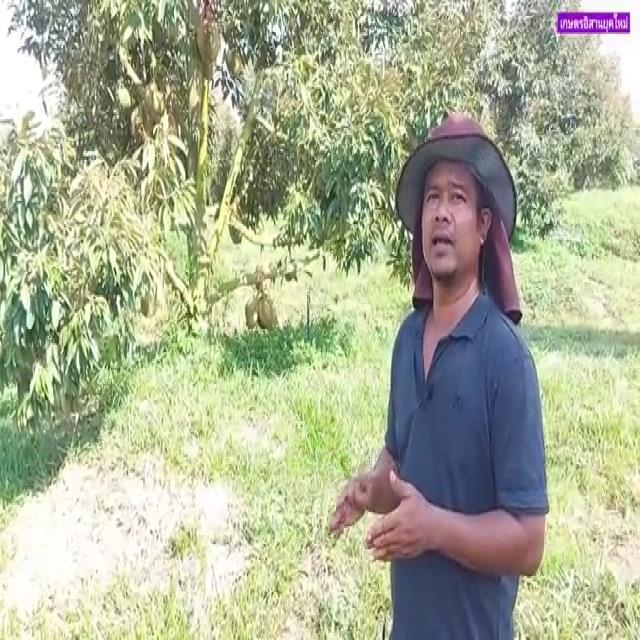durian: (194, 10, 222, 68), (255, 292, 279, 331), (243, 292, 260, 331)
